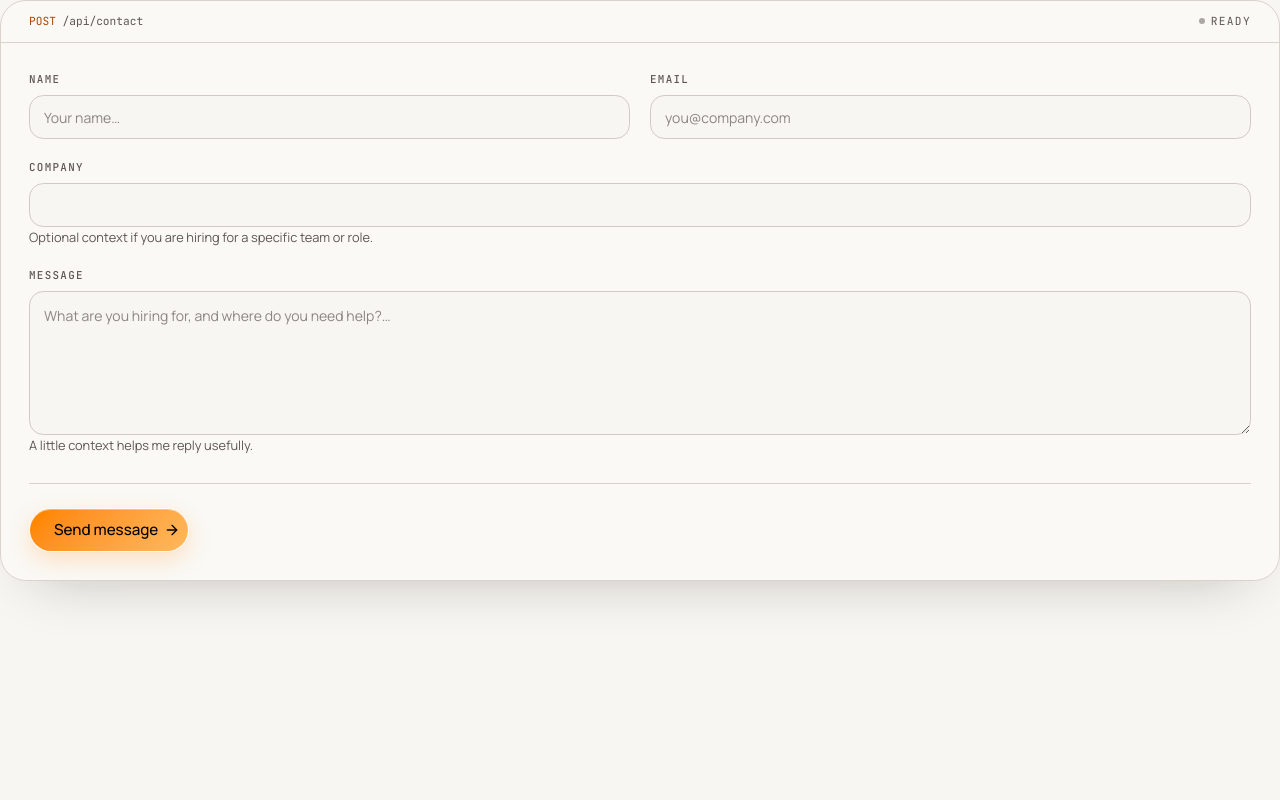
it: ContactForm › shows a fallback error when the server responds without JSON
Step 1. Type "James Cadena" into the field labelled "Name" → [330, 117], box [29,95,630,139]
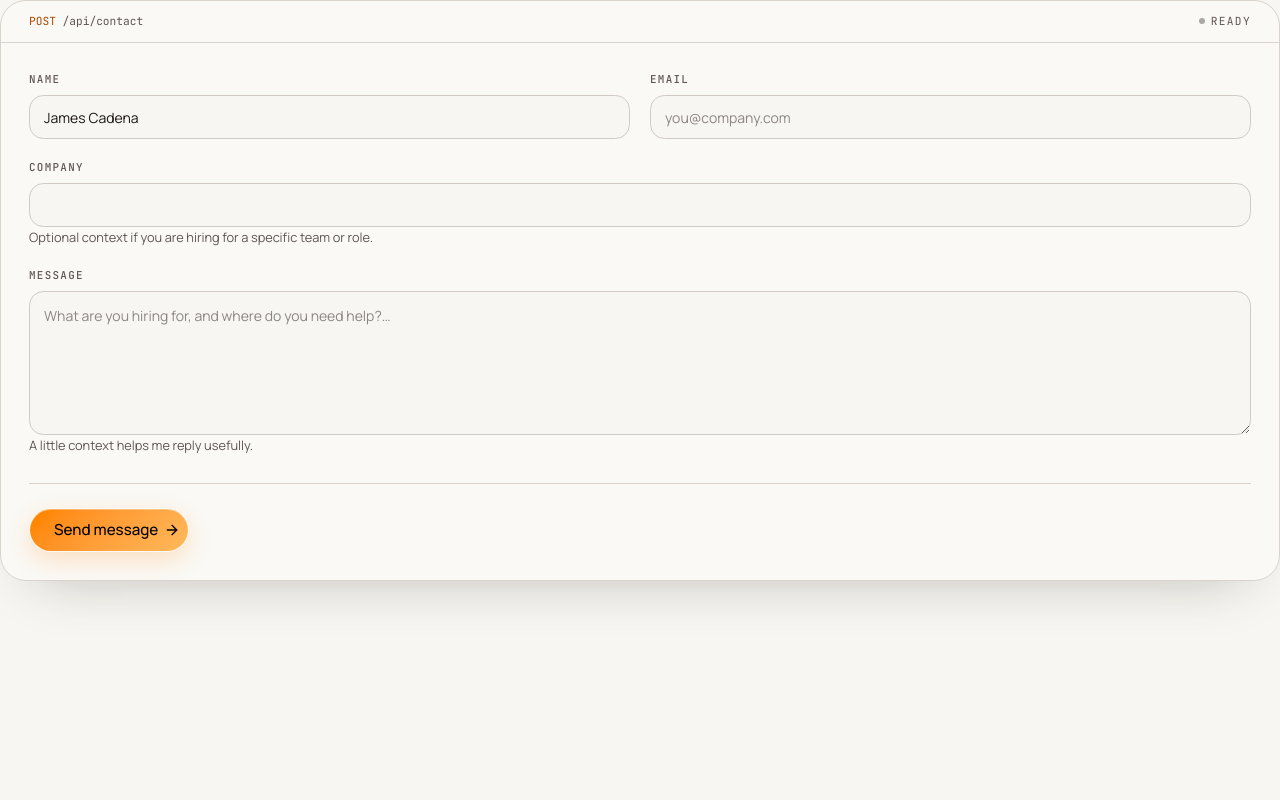
Step 2. Type "james@example.com" into the field labelled "Email" → [950, 117], box [650,95,1251,139]
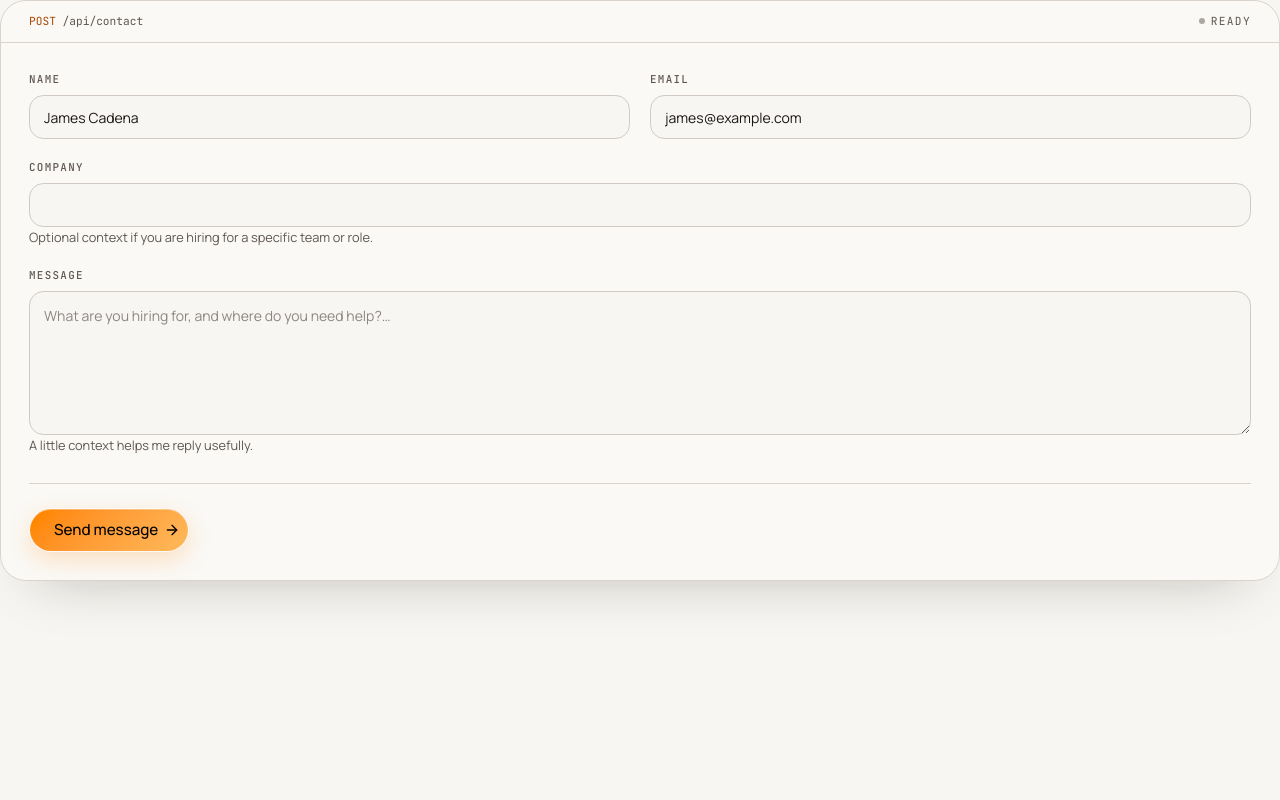
Step 3. Type "I would like to discuss a role focused on secure infrastructure." into the text box labelled "Message" → [640, 363], box [29,291,1251,435]
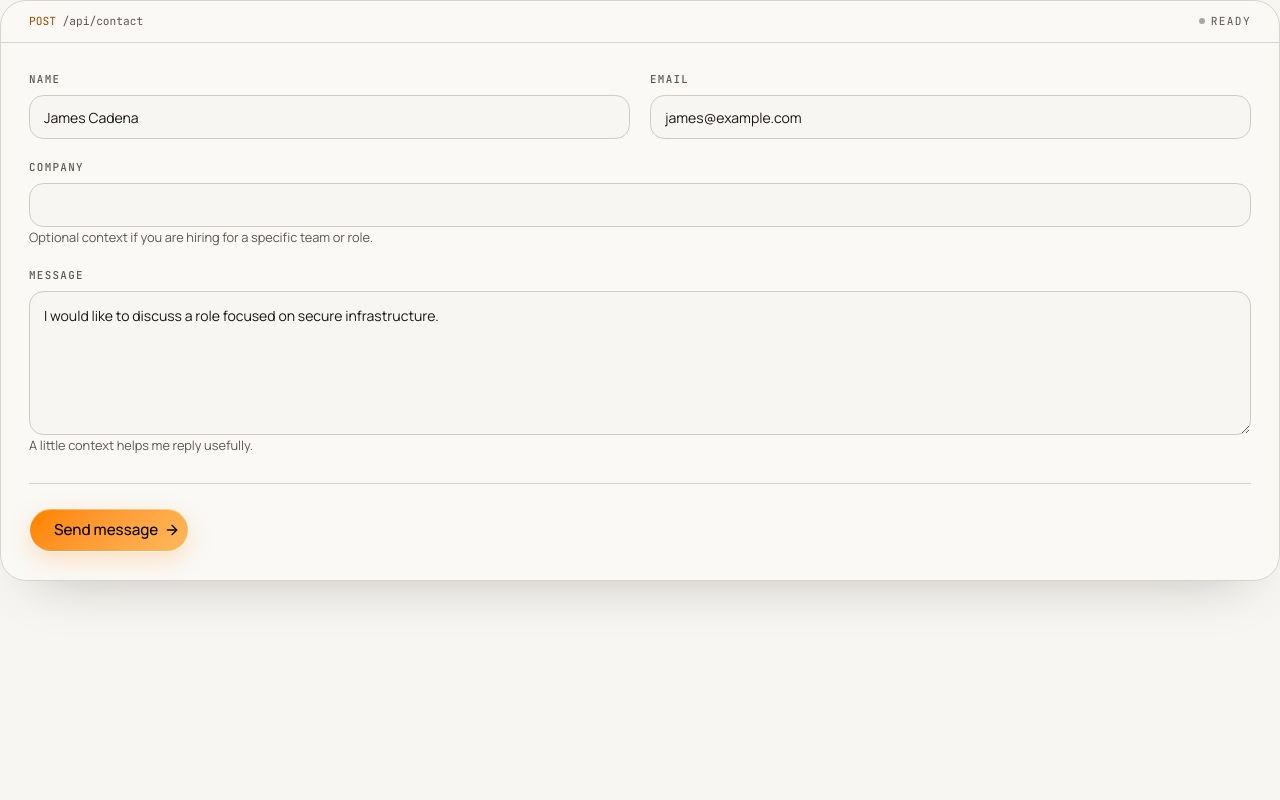
Step 4. Click the button "Send message" → [109, 530], box [29,508,189,552]
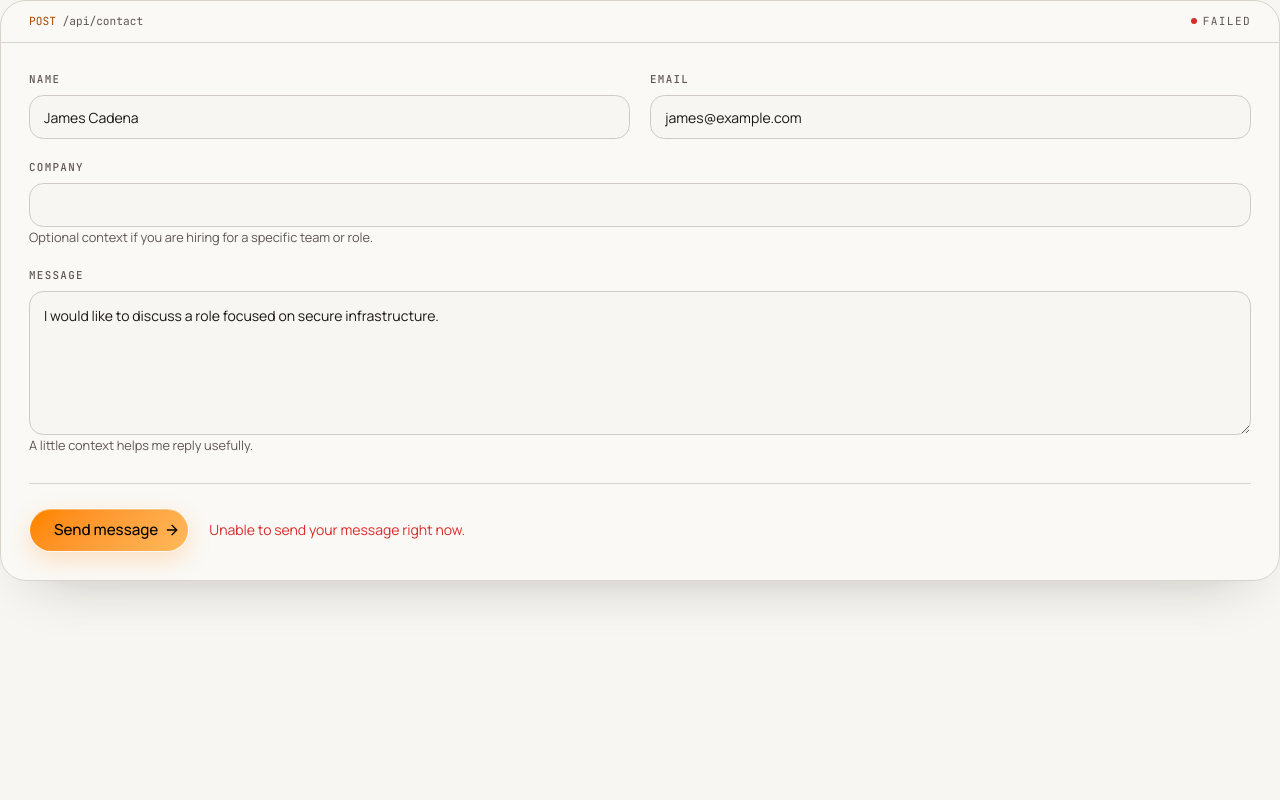
Result: the message shows "Unable to send your message right now" at [209,520,465,539]
